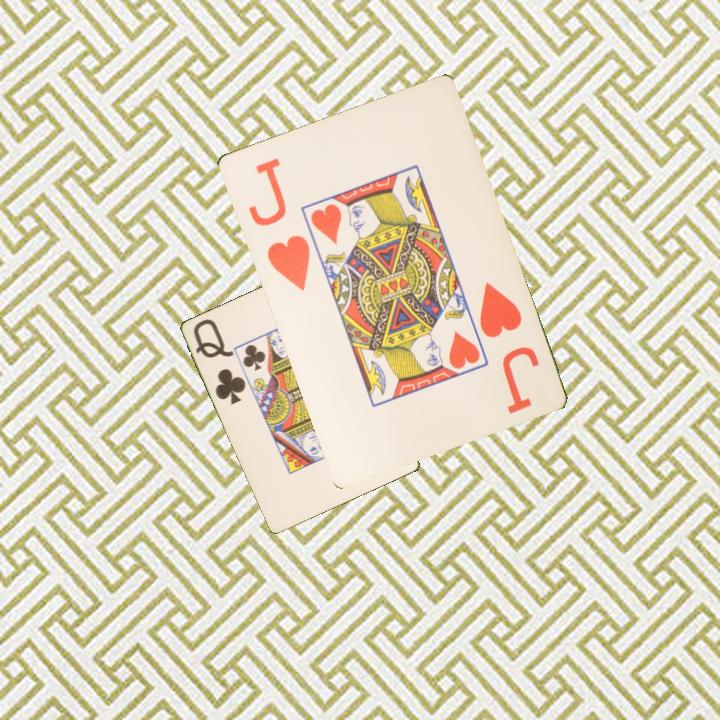Jh: (244, 154, 313, 294), (475, 278, 525, 341)
Qc: (190, 315, 249, 408)
